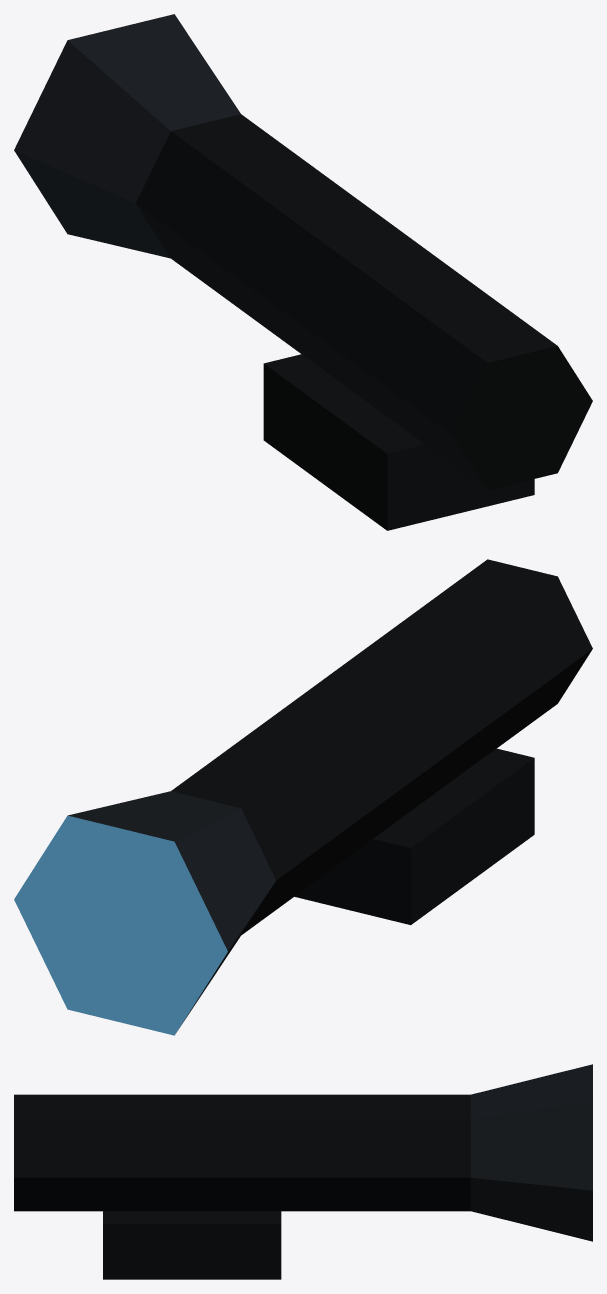
Rendered from weapon_flashlight_lowpoly.glb.
The picture shows the model from 3 angles, top to bottom: view 1: azimuth 30°, elevation 25°; view 2: azimuth 150°, elevation 25°; view 3: azimuth 270°, elevation 25°; orthographic projection. The views are drawn at different scales.
Visible parts, largest first — view 1: Weapon_Flashlight_Mesh; view 2: Weapon_Flashlight_Mesh; view 3: Weapon_Flashlight_Mesh.
Boxes of the visible parts, bbox=[...] form: Weapon_Flashlight_Mesh: bbox=[14, 14, 592, 530]; Weapon_Flashlight_Mesh: bbox=[14, 559, 592, 1035]; Weapon_Flashlight_Mesh: bbox=[14, 1064, 592, 1279].
Bounding box in the file's own units: 0.032 × 0.0339 × 0.104.
1 material, 1 textured.
